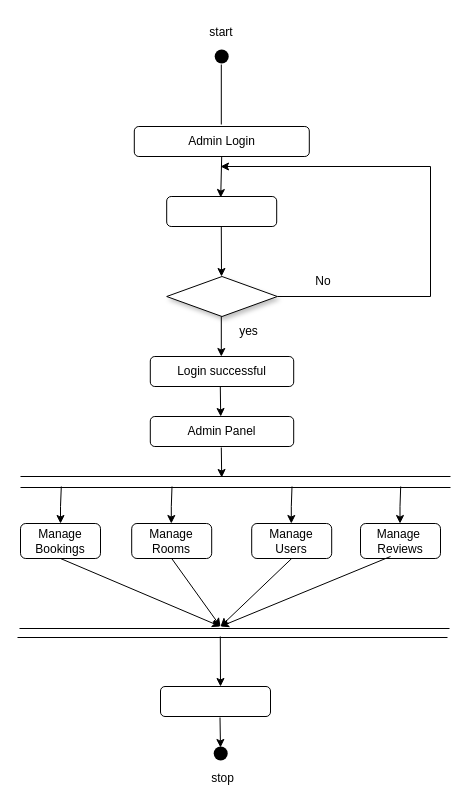
The diagram is 469 pixels wide and 810 high, and some of its shapes have lost their labels. Each missing label, with the centre of its shape:
"Authentication" goes at pixel 221 211.
"Log out" goes at pixel 215 701.
"Valid" goes at pixel 222 298.
